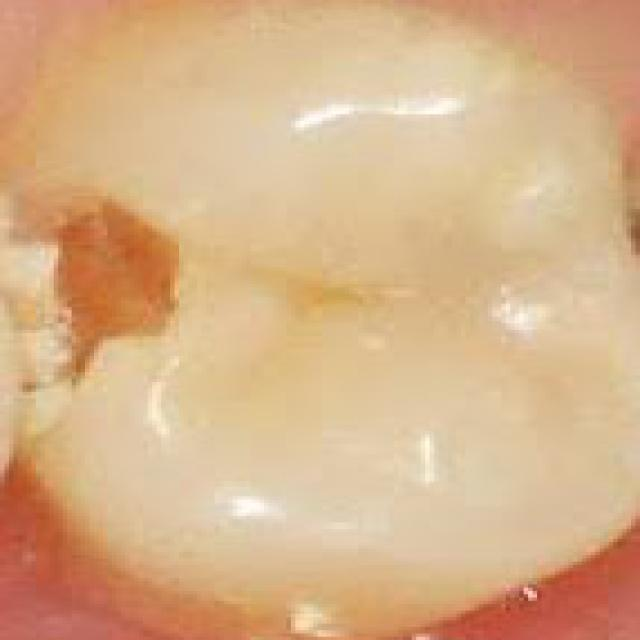Carrier: (37, 192, 199, 357)
